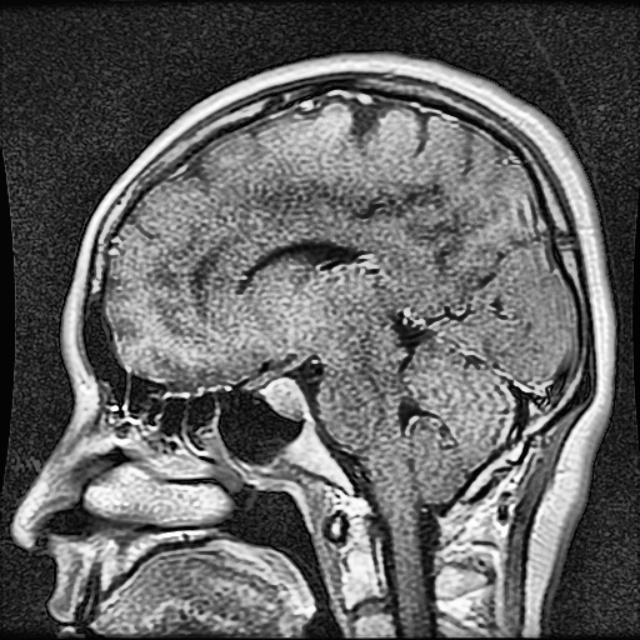Pituitary: (264, 375, 307, 418)
